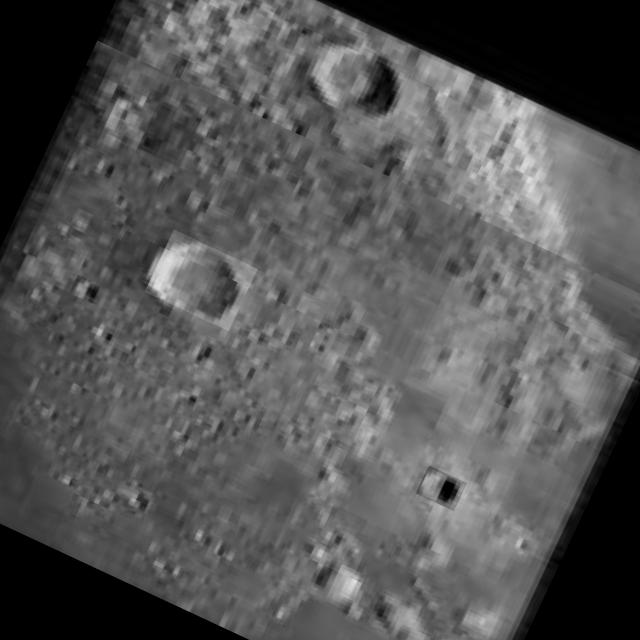crater: (144, 230, 258, 332), (305, 34, 413, 132), (416, 466, 466, 512)
